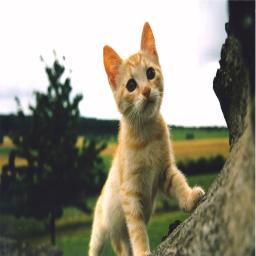catnose: (140, 86, 152, 98)
